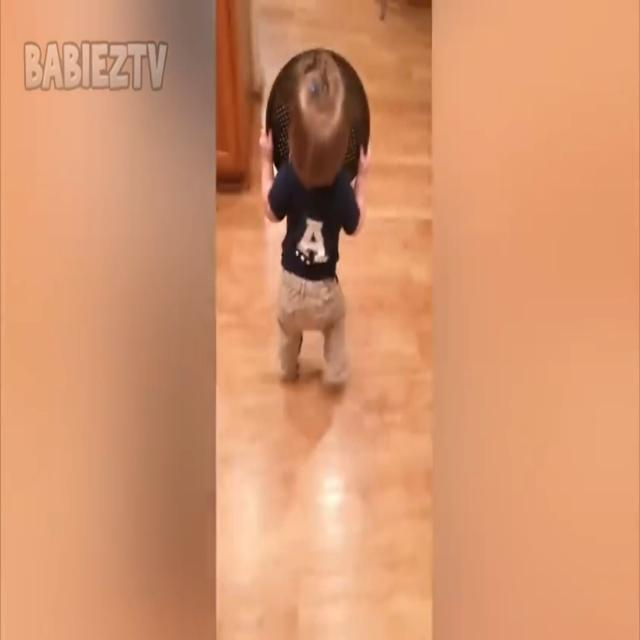child: (262, 49, 372, 390)
